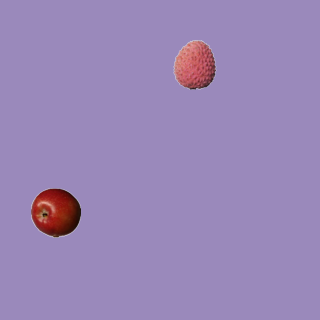Apple Braeburn: (30, 187, 80, 237)
Lychee: (169, 39, 219, 89)
